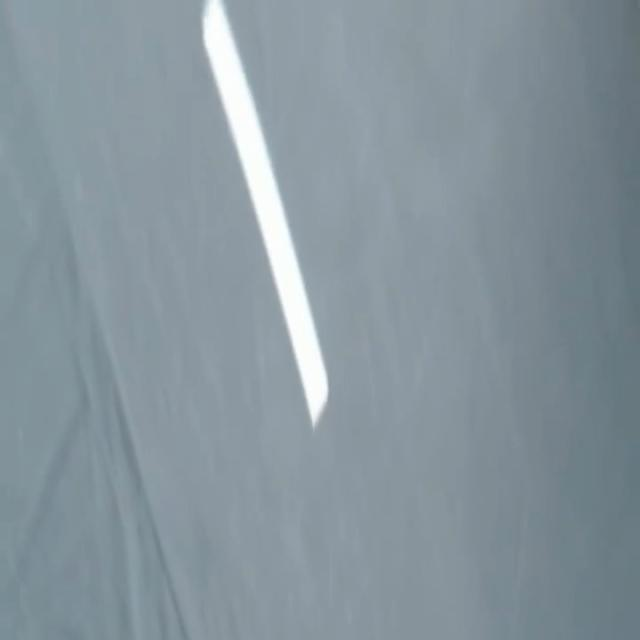center: (202, 0, 328, 427)
